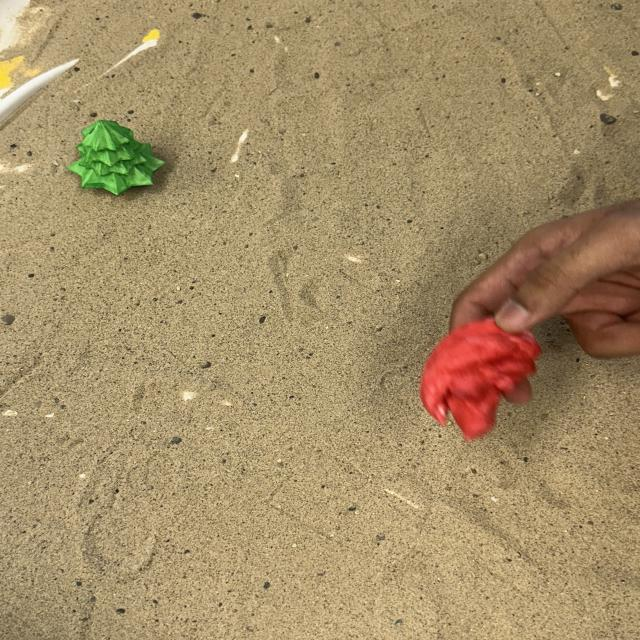fire: (417, 316, 543, 442)
tree: (66, 118, 166, 196)
